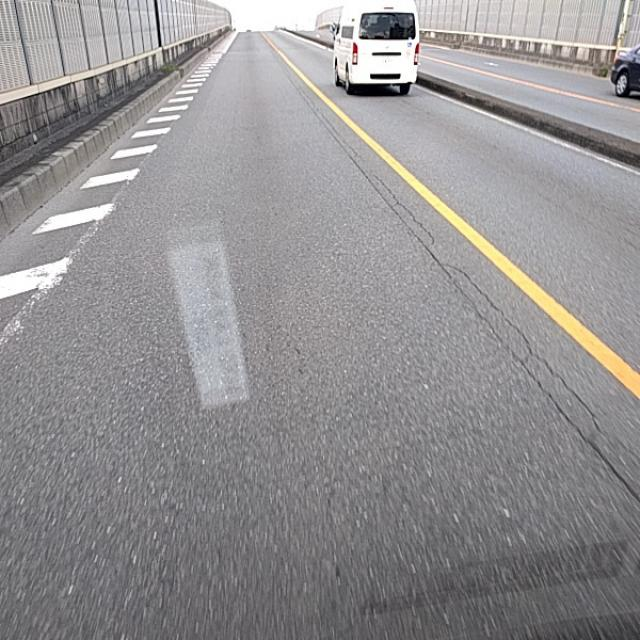pothole: (424, 262, 572, 430)
